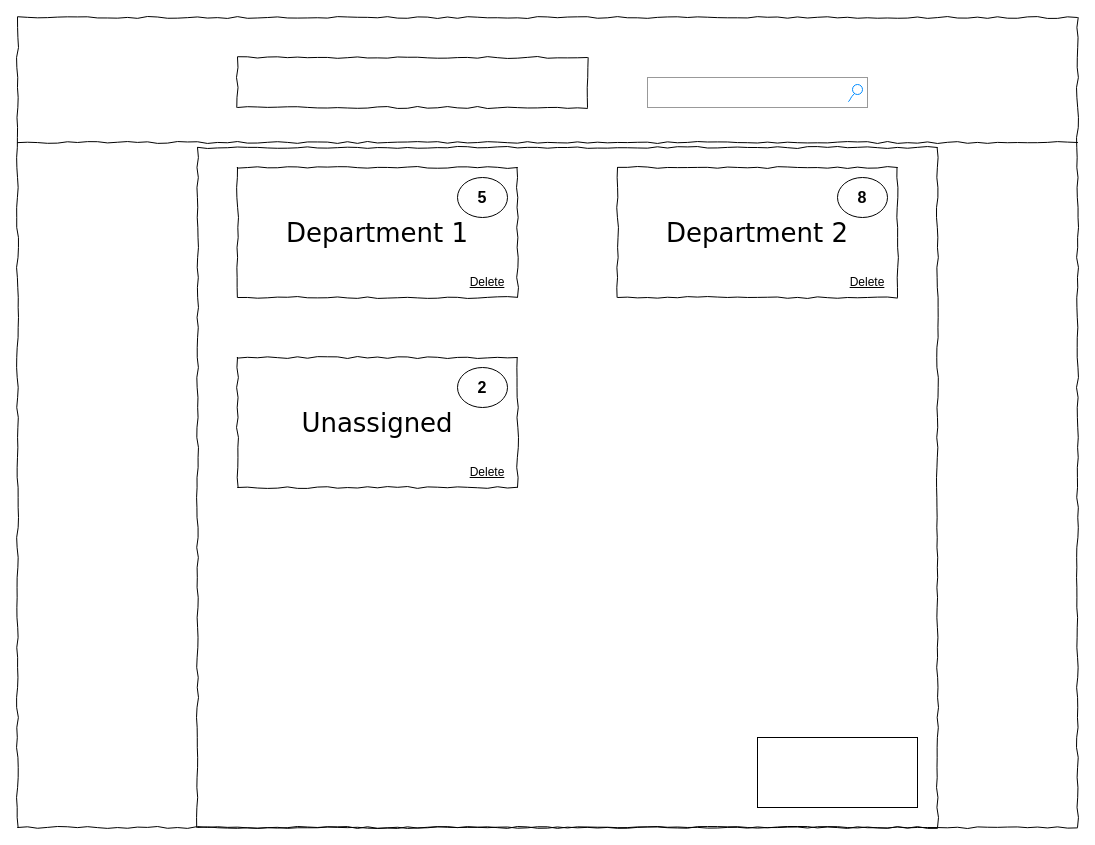
This 1095x845 diagram has some shape labels left out. Here are the shapes that lost their labels. From the top down, the centre of each, then its label:
At (x=412, y=82): "Employee Management".
At (x=837, y=772): "Add Department".
